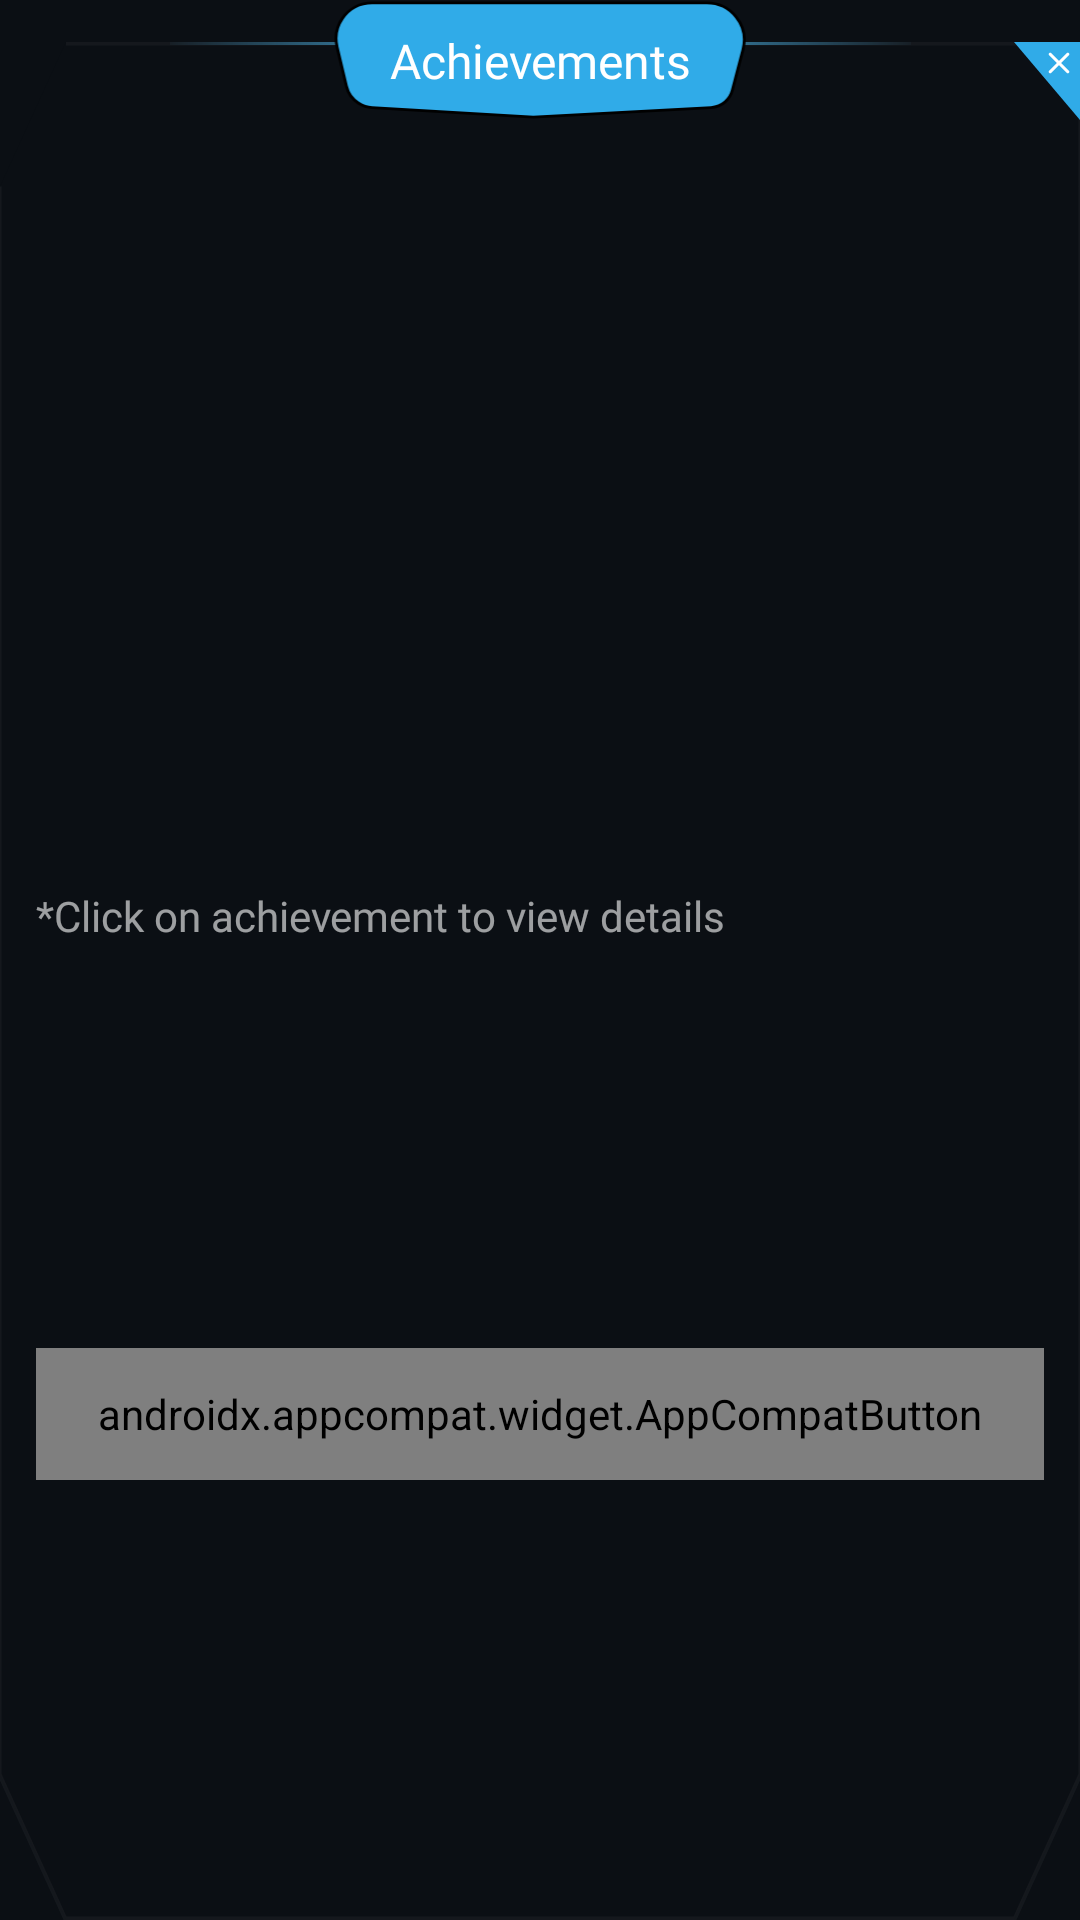

Locate icon controls on the screen. Image size 1080px×1920px, boxes as detection(x1, y1, x2, y2).
close icon: detection(1014, 42, 1080, 120)
